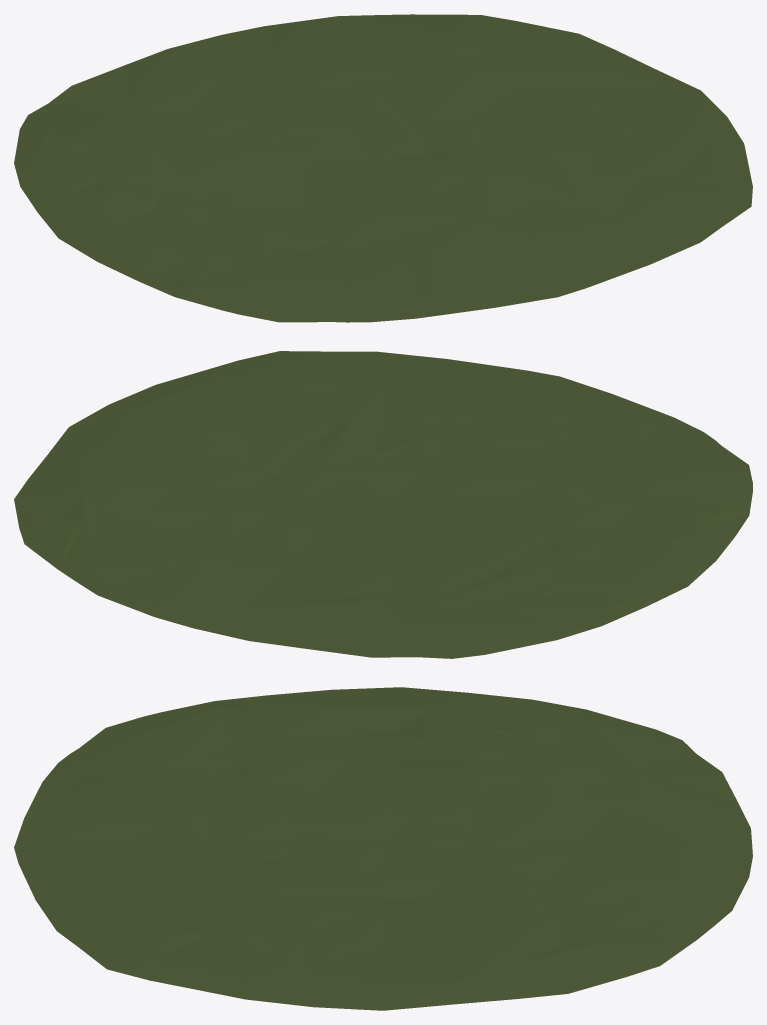
Rendered from enchanted_SM_Env_Ground_Grass_Round_01.gltf.
3 views of the same model, one above another, from view 1: azimuth 30°, elevation 25°; view 2: azimuth 150°, elevation 25°; view 3: azimuth 270°, elevation 25° (orthographic). The views are drawn at different scales.
Visible parts, largest first — view 1: SM_Env_Ground_Grass_Round_01; view 2: SM_Env_Ground_Grass_Round_01; view 3: SM_Env_Ground_Grass_Round_01.
Boxes of the visible parts, left/top/right/bottom form: SM_Env_Ground_Grass_Round_01: left=14, top=14, right=752, bottom=322; SM_Env_Ground_Grass_Round_01: left=14, top=351, right=752, bottom=658; SM_Env_Ground_Grass_Round_01: left=14, top=687, right=752, bottom=1010.
Bounding box in the file's own units: 7.8 × 0.0885 × 7.52.
1 material, 1 textured.
